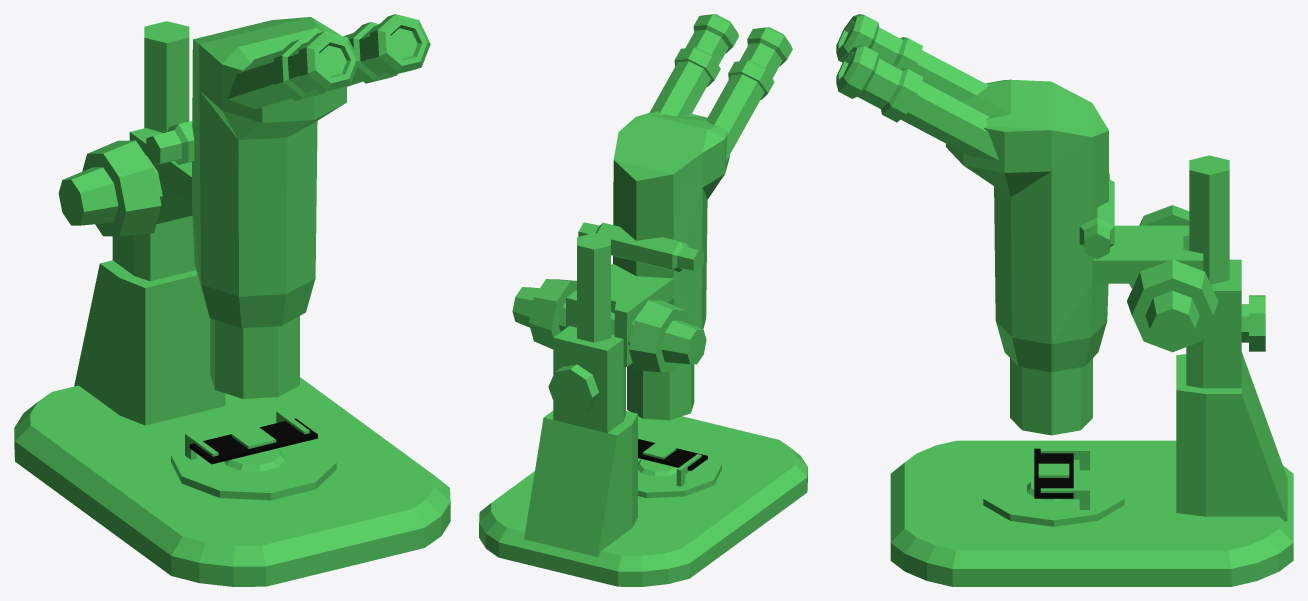
The model's file is Ph_microscope_2.fbx.
3 views of the same model, side by side, from view 1: azimuth 30°, elevation 25°; view 2: azimuth 150°, elevation 25°; view 3: azimuth 270°, elevation 25° (orthographic). The views are drawn at different scales.
Visible parts, largest first — view 1: Cylinder_8; view 2: Cylinder_8; view 3: Cylinder_8.
Boxes of the visible parts, x1,y1,x2,y2 form: Cylinder_8: [14, 14, 450, 586]; Cylinder_8: [479, 14, 807, 586]; Cylinder_8: [836, 14, 1293, 586].
Bounding box in the file's own units: 22.8 × 43.42 × 36.28.
